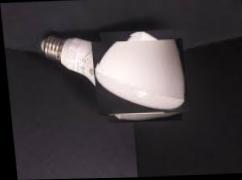Fan: (93, 33, 181, 118)
